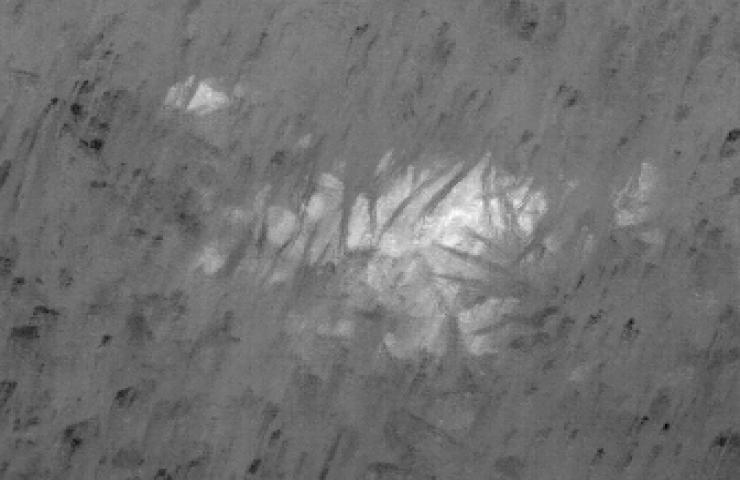landmines: (242, 149, 553, 349)
